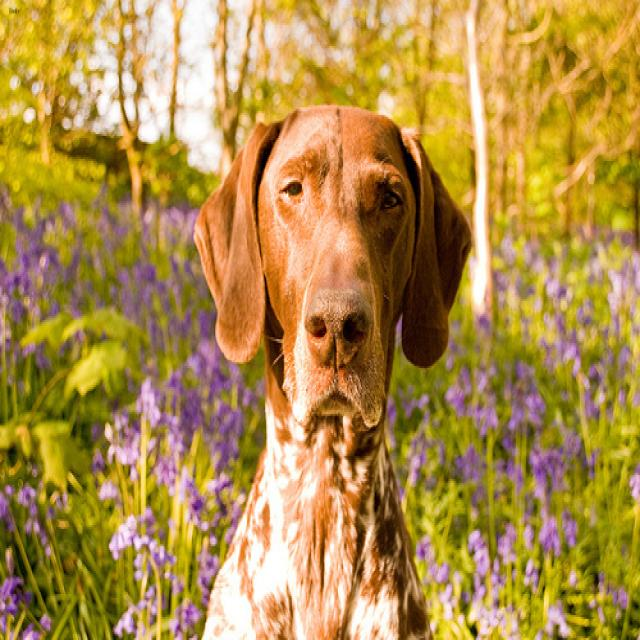dog-german_shorthaired: (187, 90, 480, 636)
